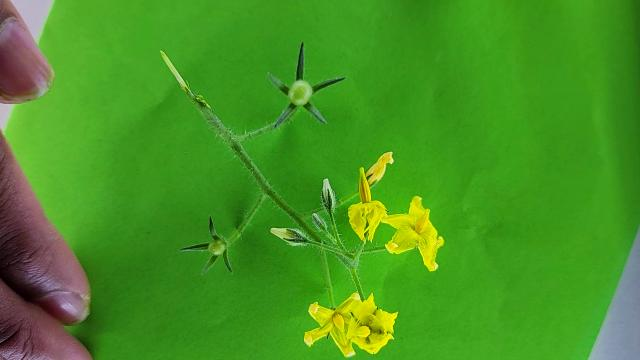Anthesis: (265, 39, 346, 132), (380, 196, 445, 269), (304, 292, 364, 354), (177, 213, 235, 276), (345, 292, 400, 354), (347, 165, 388, 245), (363, 149, 394, 189)
Flower Bud: (320, 176, 336, 217), (358, 166, 372, 204), (270, 227, 304, 242), (415, 209, 429, 233), (312, 211, 327, 233), (209, 215, 219, 240)
Fruit Bud: (288, 80, 313, 105), (209, 239, 226, 256)
